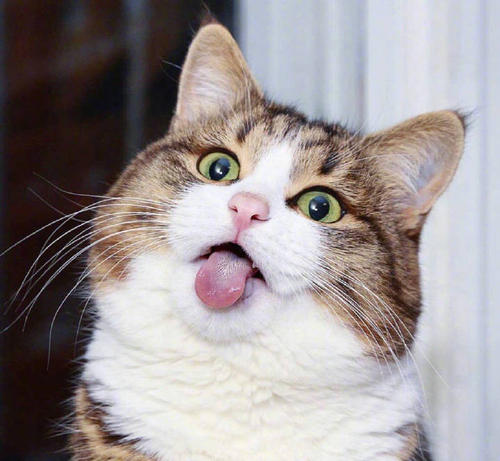cat: (95, 15, 470, 406)
